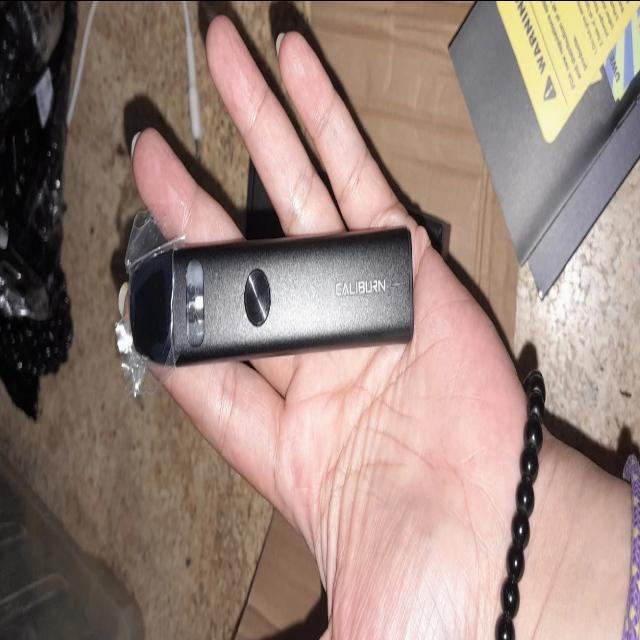Hazard: (125, 227, 416, 369)
